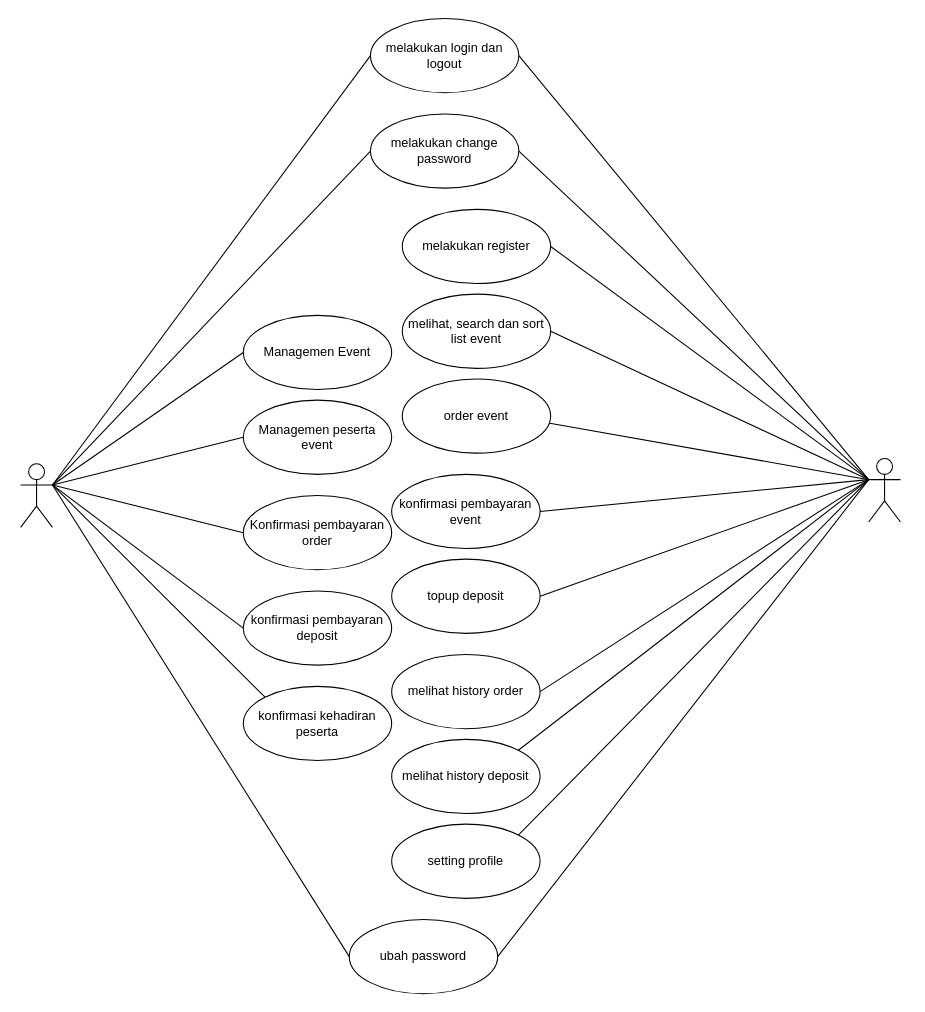
Some shapes in this 925 by 1012 pixel diagram are drawn without their labels. Here are the shapes that lost their labels. From the top down, the centre of each, then its label:
At [36,495]: "Admin".
At [884,489]: "Member".
